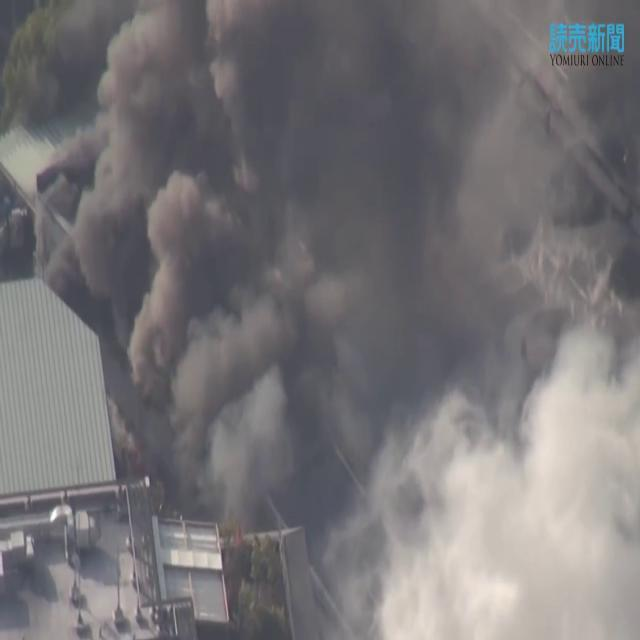Smoke: (44, 0, 638, 634)
